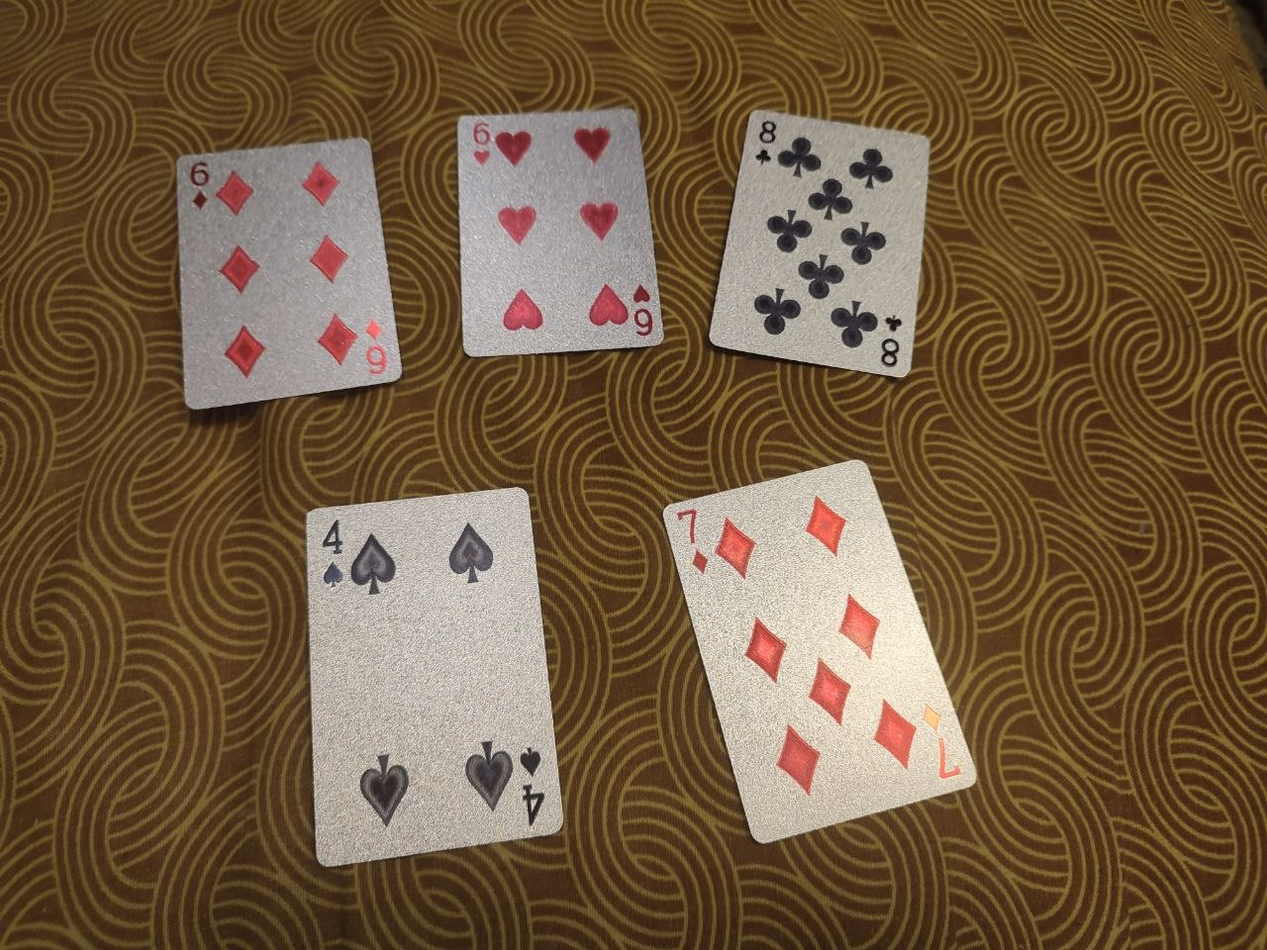4S: (304, 487, 565, 867)
6D: (173, 133, 406, 412)
6H: (454, 108, 666, 359)
7D: (665, 454, 981, 845)
8C: (707, 109, 947, 378)
